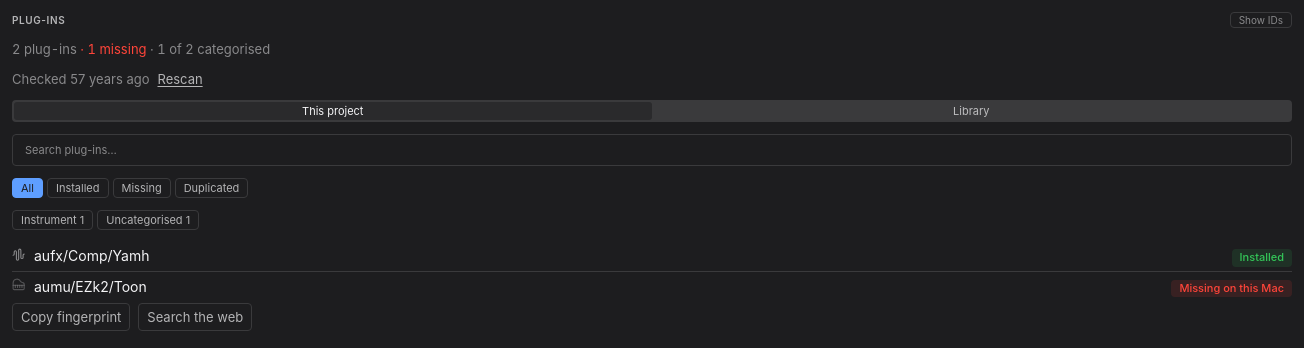
it: <PluginRail /> › 'Missing' chip narrows to plug-ins not in the AU registry
Step 1. Click the button "Missing" → (142, 188), box [112,178,171,198]
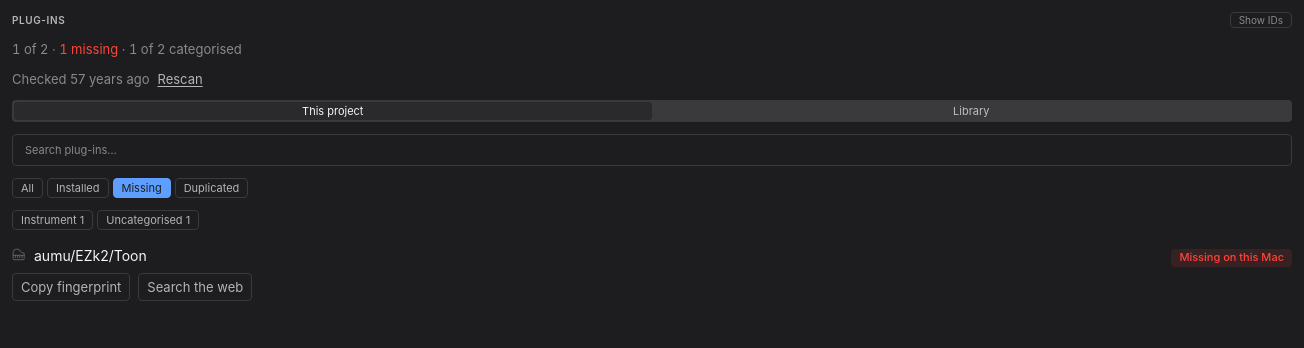
Expected: the button "aumu/EZk2/Toon" is shown, [34,246,1163,266]
Now the button "aufx/Comp/Yamh" is gone
